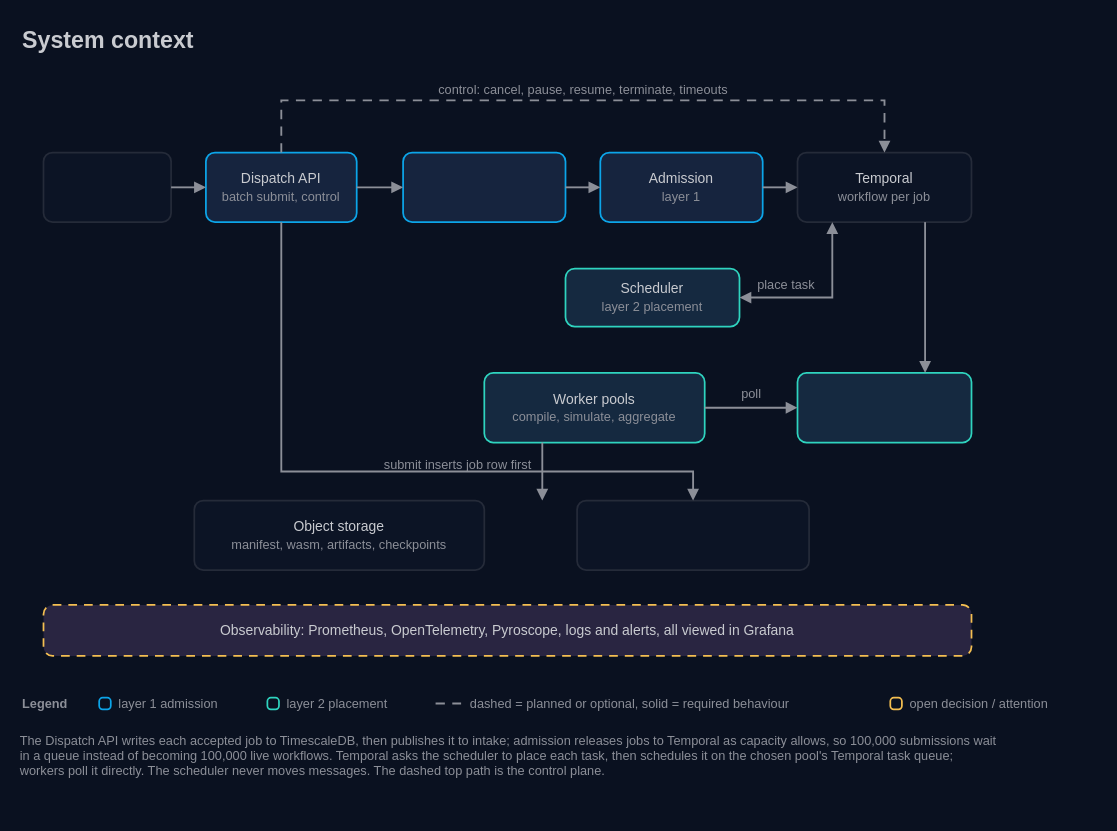
The diagram is 1117 pixels wide and 831 high, and some of its shapes have lost their labels. Here are the shapes that lost their labels. From the top down, the centre of each, then its label:
point (106, 186): Load CLI dispatch, control
point (484, 186): Intake queues RabbitMQ, priority
point (884, 407): Pool task queues Temporal, build and run
point (692, 534): TimescaleDB accepted jobs, event history
